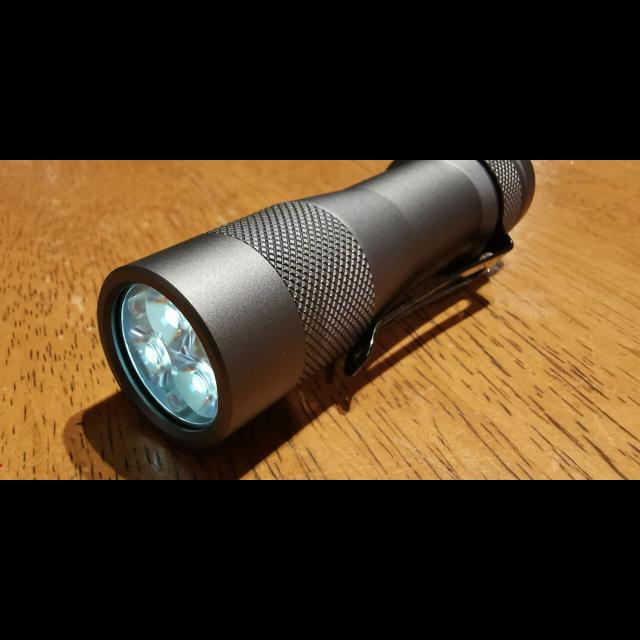Flashlight: (90, 160, 542, 456)
